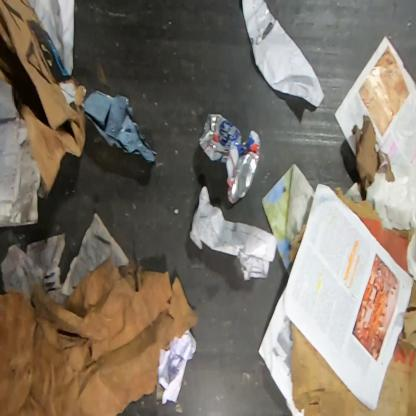cardboard: (289, 278, 416, 416), (0, 0, 88, 197), (332, 187, 415, 279)
metal: (199, 113, 262, 206)
soft_plastic: (84, 89, 159, 165)
